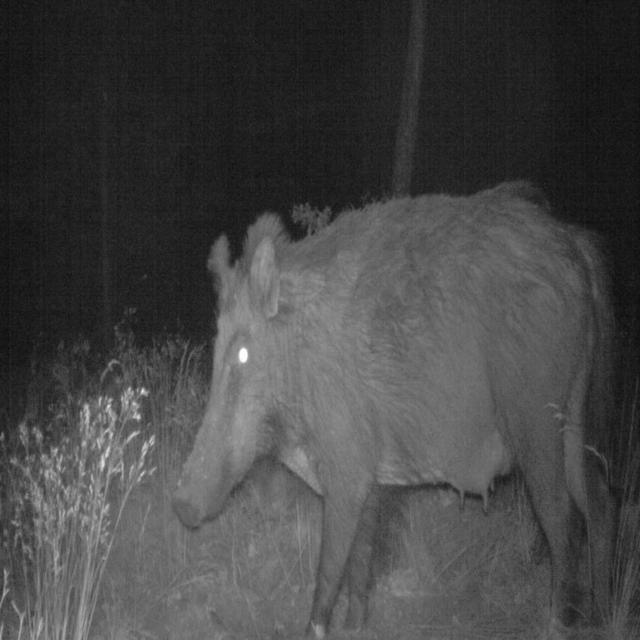pig: (146, 120, 640, 567)
